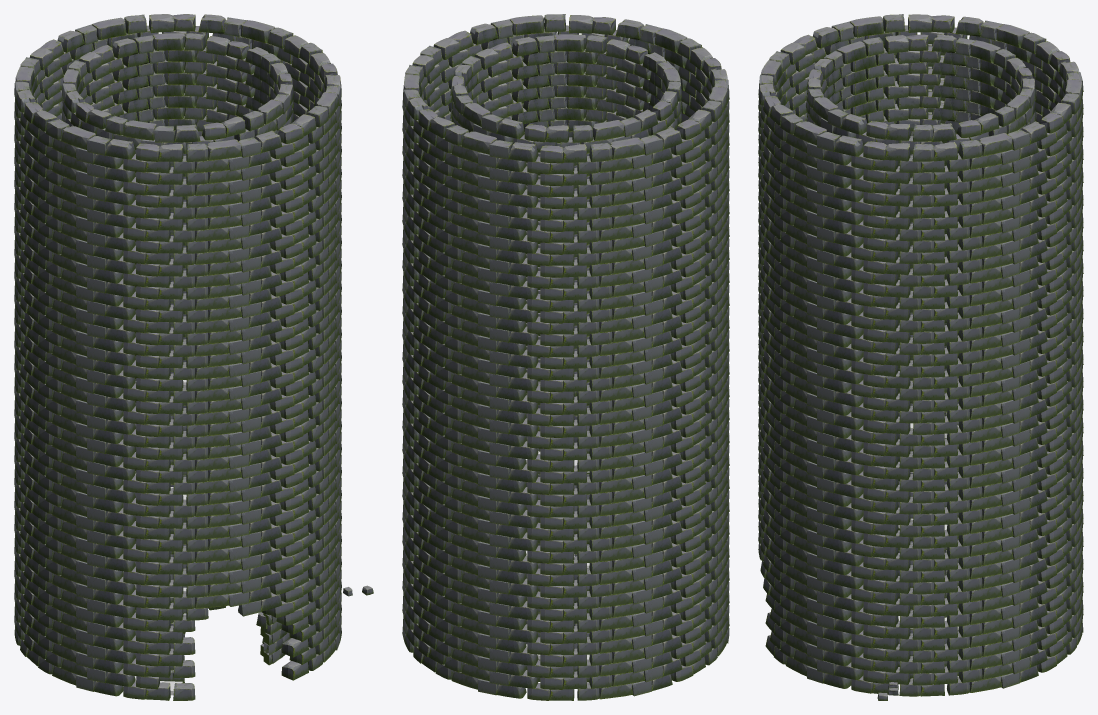
Rendered from Turm_Hoeher_Groessere_Steine.fbx.
3 views of the same model, side by side, from view 1: azimuth 30°, elevation 25°; view 2: azimuth 150°, elevation 25°; view 3: azimuth 270°, elevation 25° (orthographic).
Parts seen in each view (by area): view 1: Mauerring_Reihe_02, Mauerring_Innen, Mauerring_Reihe_02_Original; view 2: Mauerring_Reihe_02, Mauerring_Innen, Mauerring_Reihe_02_Original; view 3: Mauerring_Reihe_02, Mauerring_Innen, Mauerring_Reihe_02_Original.
Part boxes in pixels (x1,y1,x2,y2): Mauerring_Reihe_02: [14, 14, 341, 700]; Mauerring_Innen: [62, 33, 293, 670]; Mauerring_Reihe_02_Original: [123, 381, 290, 682]; Mauerring_Reihe_02: [402, 14, 729, 700]; Mauerring_Innen: [450, 34, 681, 384]; Mauerring_Reihe_02_Original: [525, 383, 589, 682]; Mauerring_Reihe_02: [758, 14, 1083, 696]; Mauerring_Innen: [806, 34, 1035, 380]; Mauerring_Reihe_02_Original: [898, 378, 958, 678].
Size of the model in its own units: 1704 by 2849 by 1529.
